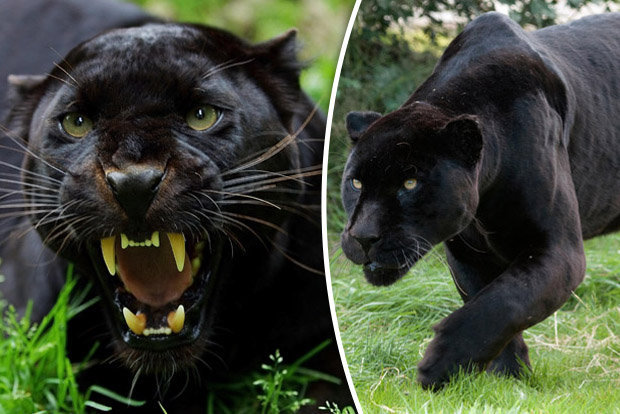panther: (1, 5, 323, 412), (337, 19, 620, 388)
